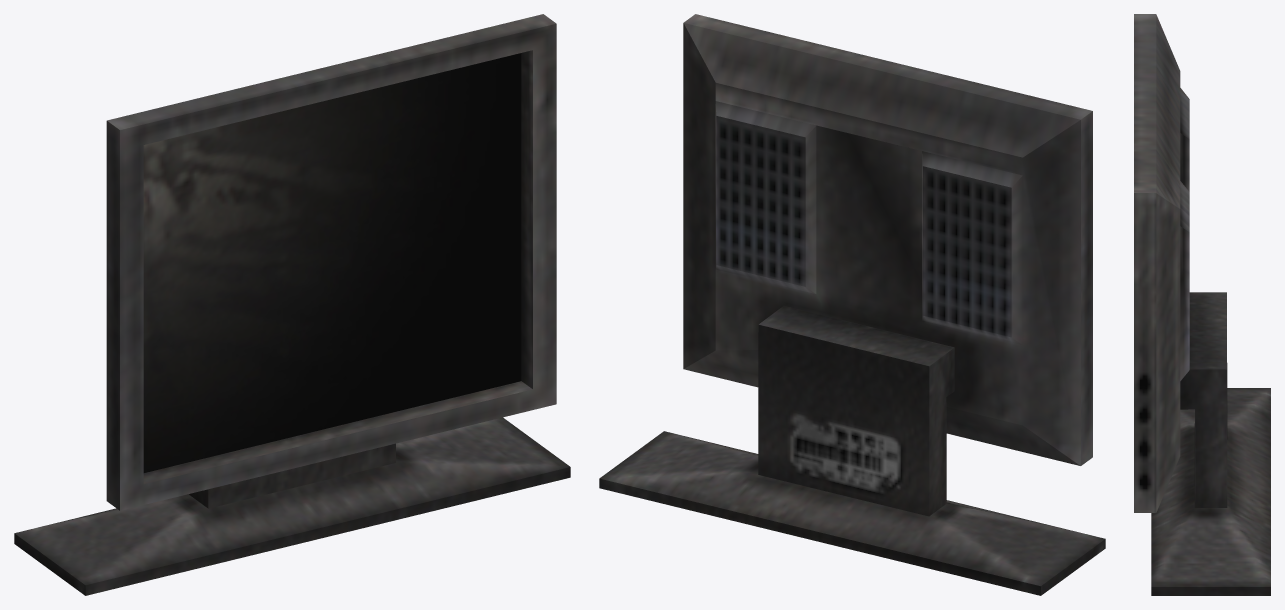
The model's file is monitor.fbx.
3 renders of one model, left to right at view 1: azimuth 30°, elevation 25°; view 2: azimuth 150°, elevation 25°; view 3: azimuth 270°, elevation 25°, orthographic. The views are drawn at different scales.
Visible parts, largest first — view 1: Scene_Root; view 2: Scene_Root; view 3: Scene_Root.
Boxes of the visible parts, x1,y1,x2,y2 form: Scene_Root: (14,14,570,595); Scene_Root: (599,14,1105,595); Scene_Root: (1134,14,1270,595).
Bounding box in the file's own units: 42.79 × 39.4 × 12.44.
